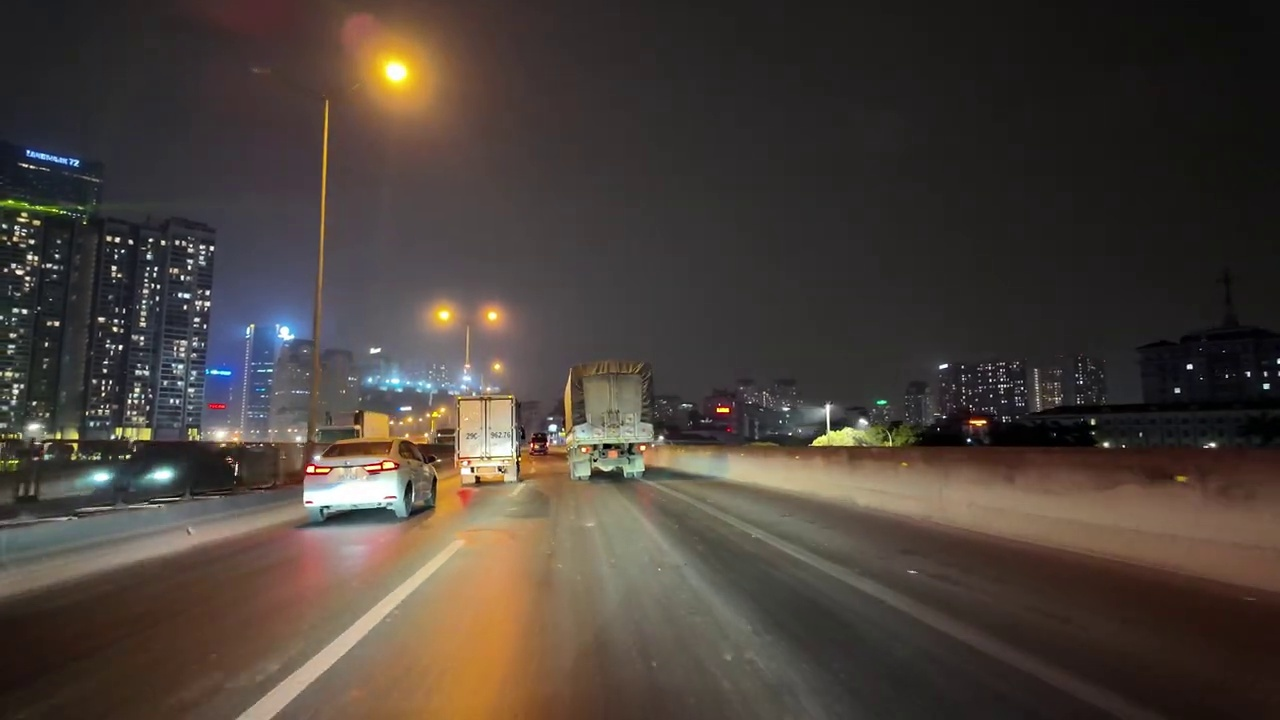acesa: (369, 50, 420, 99), (428, 301, 459, 330), (480, 304, 508, 330), (487, 360, 508, 379)
apagada: (245, 56, 285, 80)
